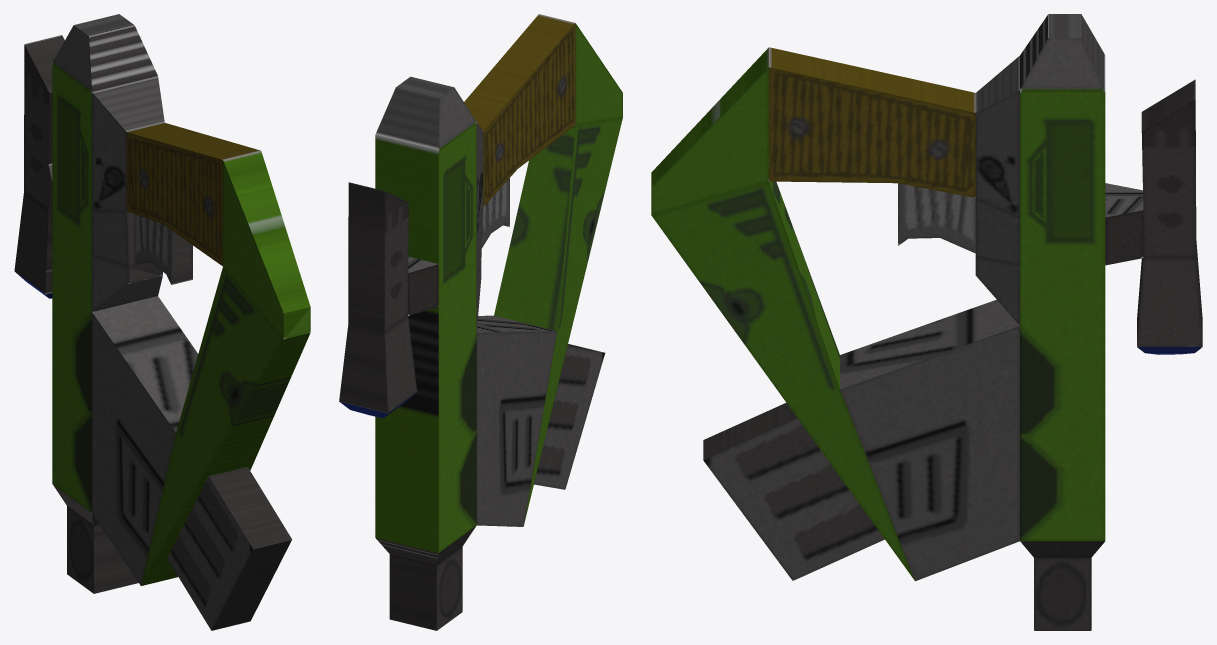
The model's file is AZZK.fbx.
3 views of the same model, side by side, from view 1: azimuth 30°, elevation 25°; view 2: azimuth 150°, elevation 25°; view 3: azimuth 270°, elevation 25° (orthographic). The views are drawn at different scales.
Parts seen in each view (by area): view 1: Cube; view 2: Cube; view 3: Cube.
Boxes of the visible parts, left/top/right/bottom form: Cube: left=14, top=14, right=310, bottom=630; Cube: left=339, top=14, right=622, bottom=630; Cube: left=651, top=14, right=1202, bottom=630.
Bounding box in the file's own units: 0.0218 × 0.1743 × 0.1471.
